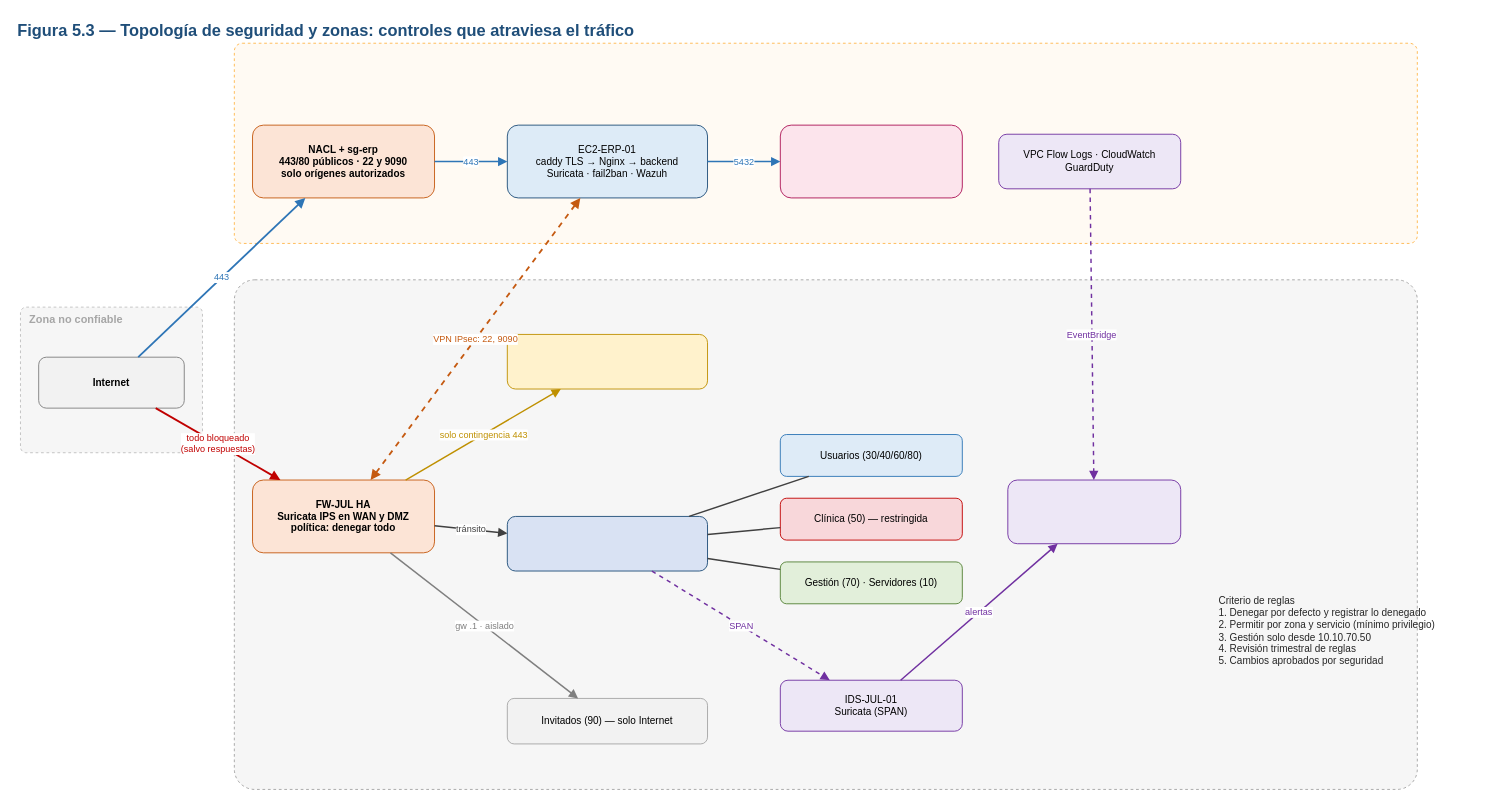
Image size: 1510x805. Some labels were removed from this diagram. The box of each missing label's shape, as (x1, y1, x2, y2) in pixels:
db PostgreSQL solo red Docker (host 127.0.0.1): (779, 124, 962, 198)
DMZ (VLAN 20) PRX-DMZ-01 · HPT-DMZ-01 (honeypot → alertas al SIEM): (506, 334, 708, 389)
Nube AWS (VPC-ST): (233, 42, 1417, 243)
Núcleo L3 ACL entre VLAN: (506, 516, 708, 571)
Sede Juliaca (on-premise): (233, 279, 1417, 789)
SIEM-JUL-01 (Wazuh) alertas centralizadas: (1007, 479, 1181, 544)
